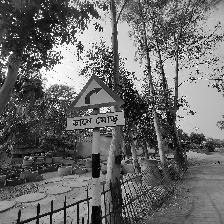Right-turn: (65, 74, 126, 131)
